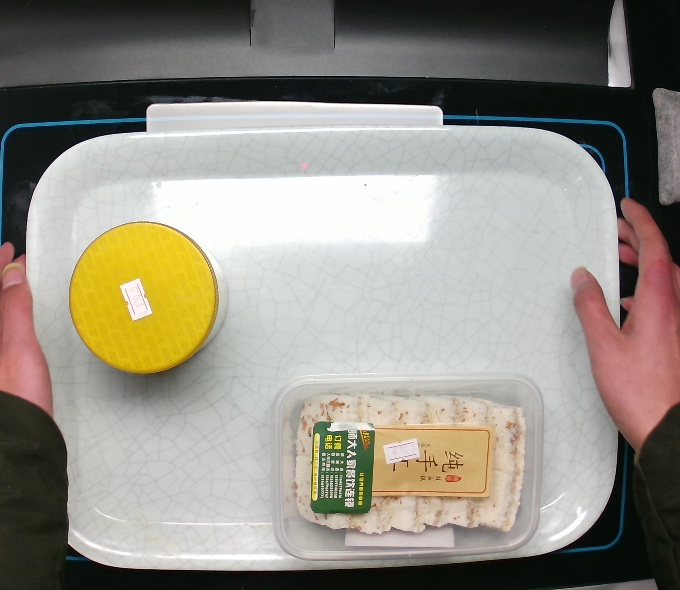wcq-GuiHuaGao: (266, 368, 546, 562)
wcq-MaiYaTang: (68, 219, 231, 377)
